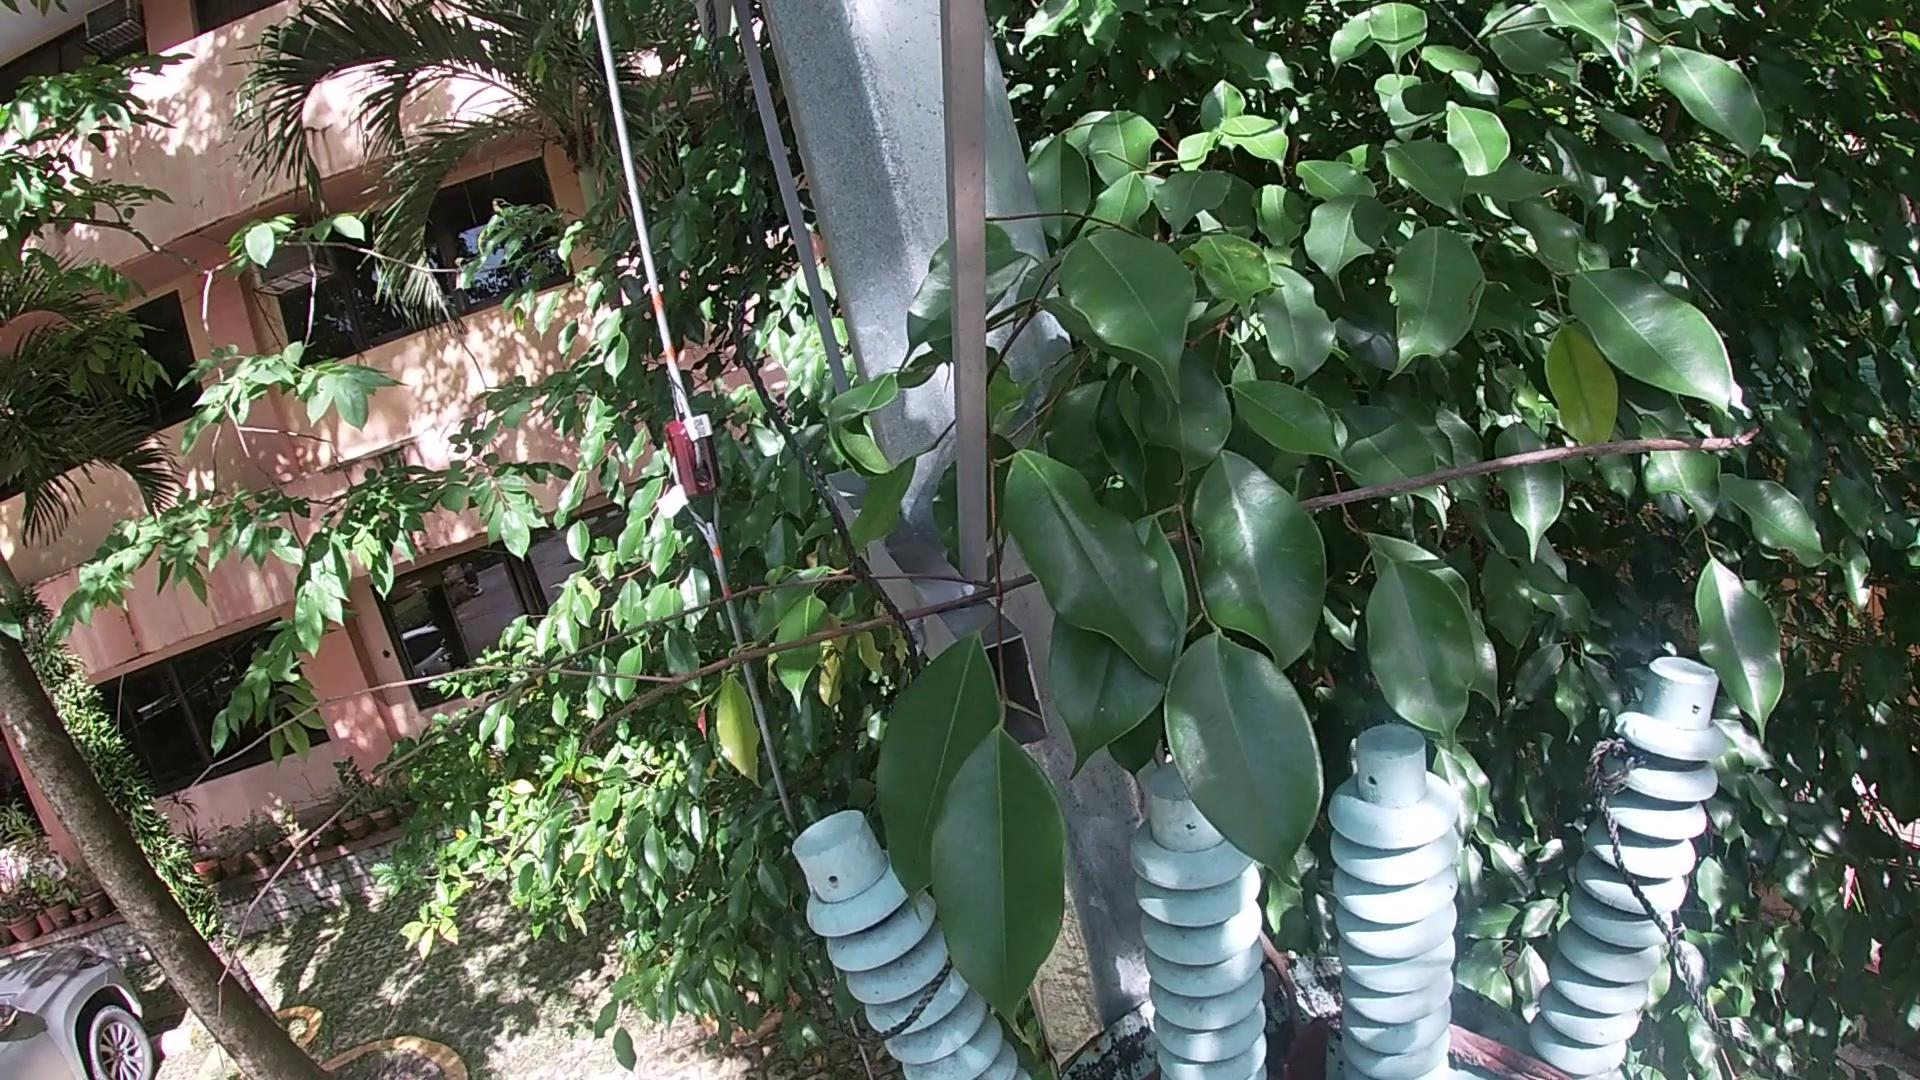mahogany fruit: (1294, 1013, 1342, 1075)
tree branch: (98, 385, 1826, 1080), (1255, 928, 1313, 1065), (1443, 1025, 1592, 1077), (1262, 939, 1295, 1010)
